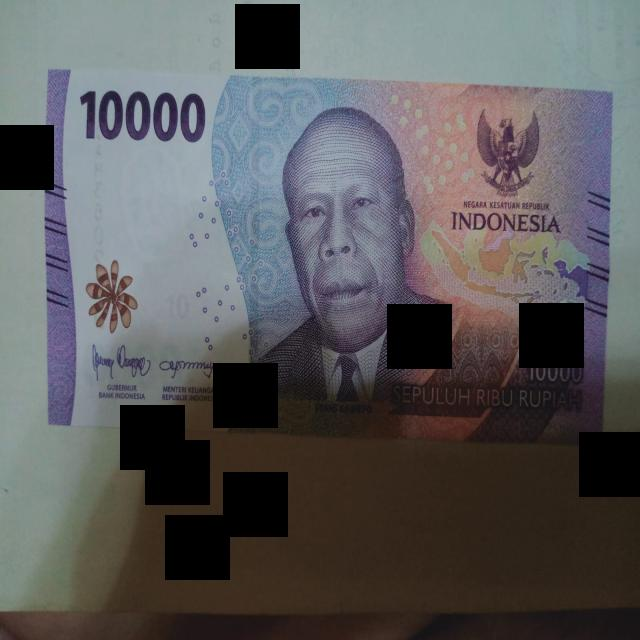sepuluhribu rupiah: (45, 70, 611, 442)
